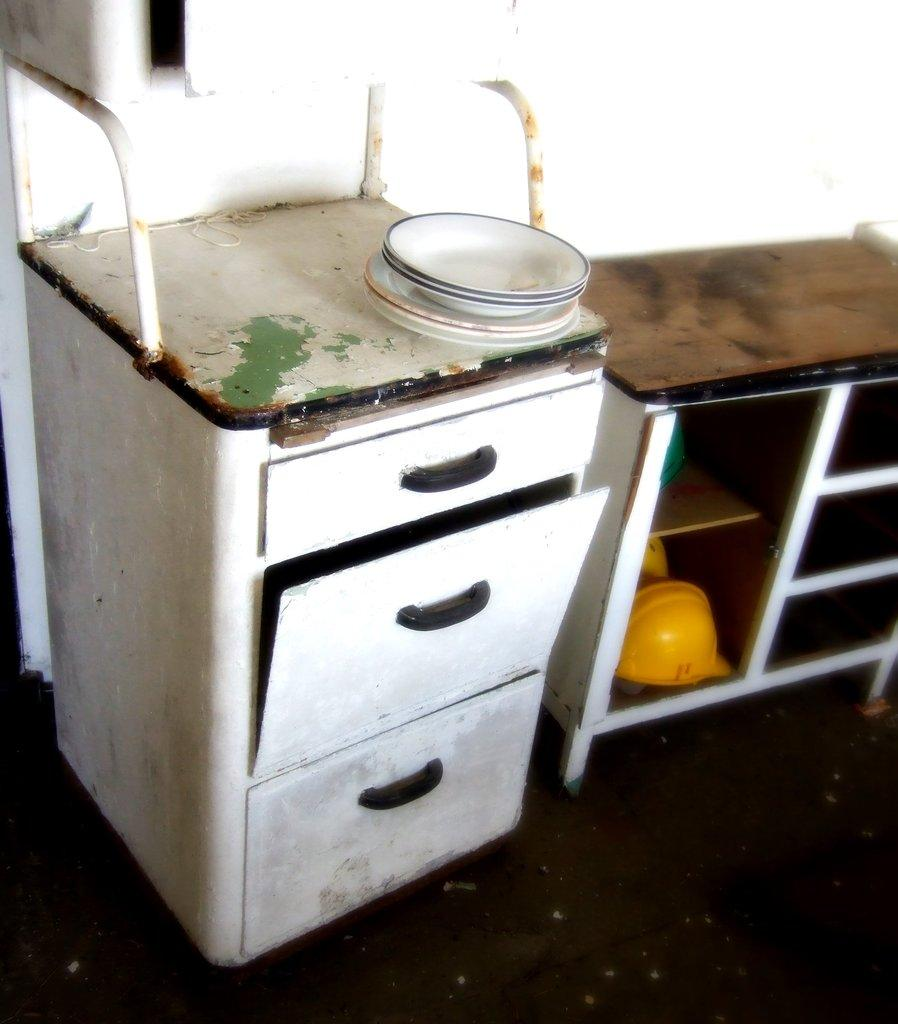cabinet_door: (264, 750, 514, 874), (271, 572, 560, 678), (279, 441, 586, 516)
handle: (396, 582, 492, 636), (406, 448, 494, 503), (360, 766, 448, 818)
